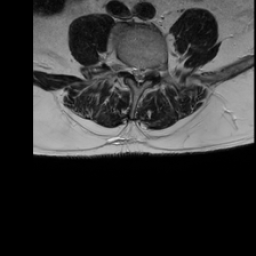CCS_normal: (135, 59, 141, 92)
LFS_stenosis: (147, 59, 154, 82)
LLS_normal: (141, 59, 147, 85)
RFS_normal: (122, 56, 129, 78)
RLS_normal: (129, 58, 135, 83)
